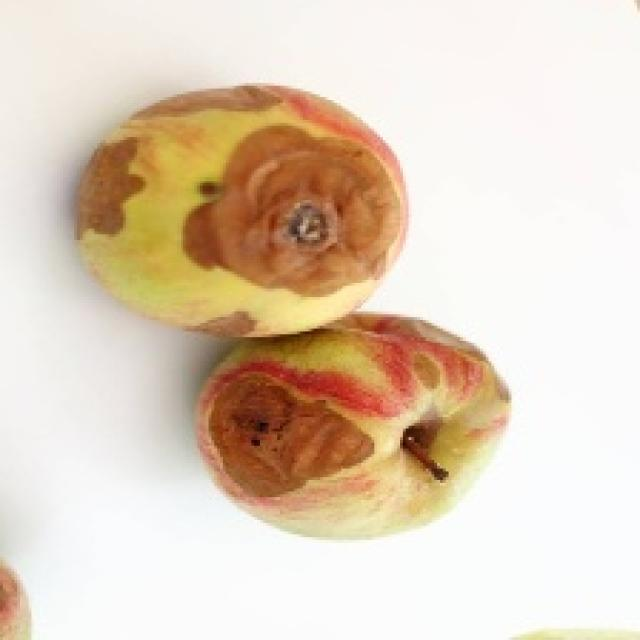rotten_apple: (80, 90, 406, 332), (202, 340, 510, 532)
